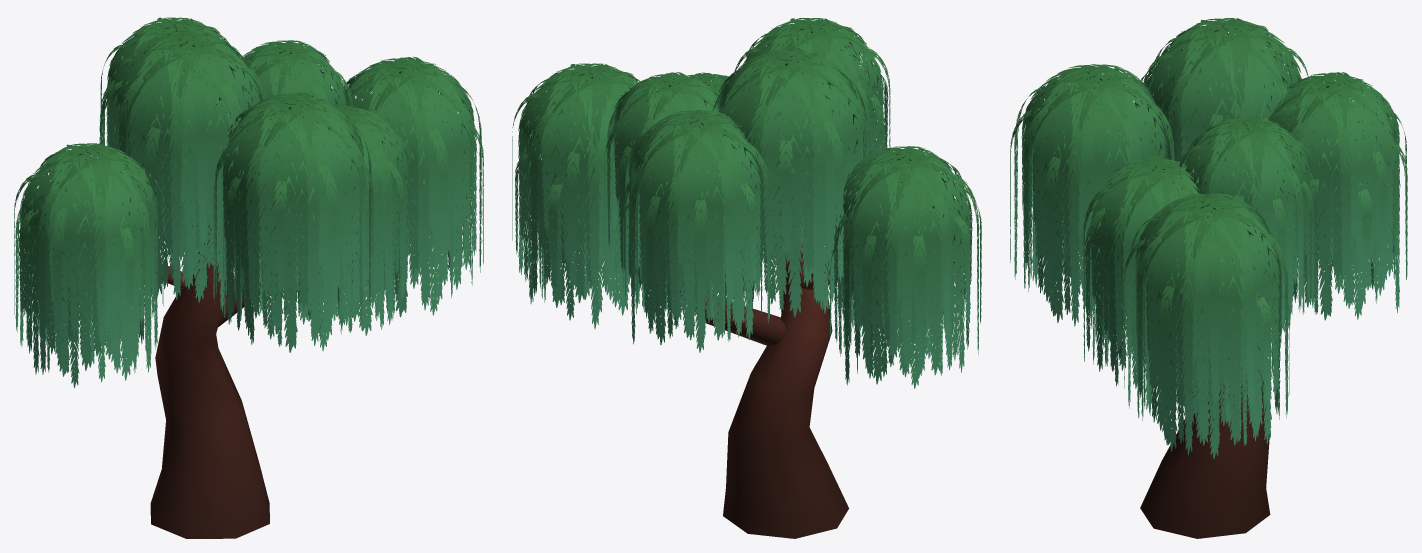
File: SM_Sw_WillowTree_01.fbx
3 views of the same model, side by side, from view 1: azimuth 30°, elevation 25°; view 2: azimuth 150°, elevation 25°; view 3: azimuth 270°, elevation 25° (orthographic). The views are drawn at different scales.
Visible parts, largest first — view 1: SM_Sw_WillowTree_01; view 2: SM_Sw_WillowTree_01; view 3: SM_Sw_WillowTree_01.
Part boxes in pixels (bbox=[...]): SM_Sw_WillowTree_01: bbox=[14, 17, 483, 538]; SM_Sw_WillowTree_01: bbox=[512, 18, 981, 538]; SM_Sw_WillowTree_01: bbox=[1010, 18, 1407, 538].
Bounding box in the file's own units: 814 × 808 × 612.
